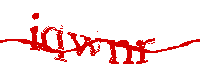i: (28, 11, 42, 51)
n: (108, 39, 134, 67)
q: (42, 21, 68, 65)
r: (135, 37, 156, 64)
w: (69, 32, 102, 58)
